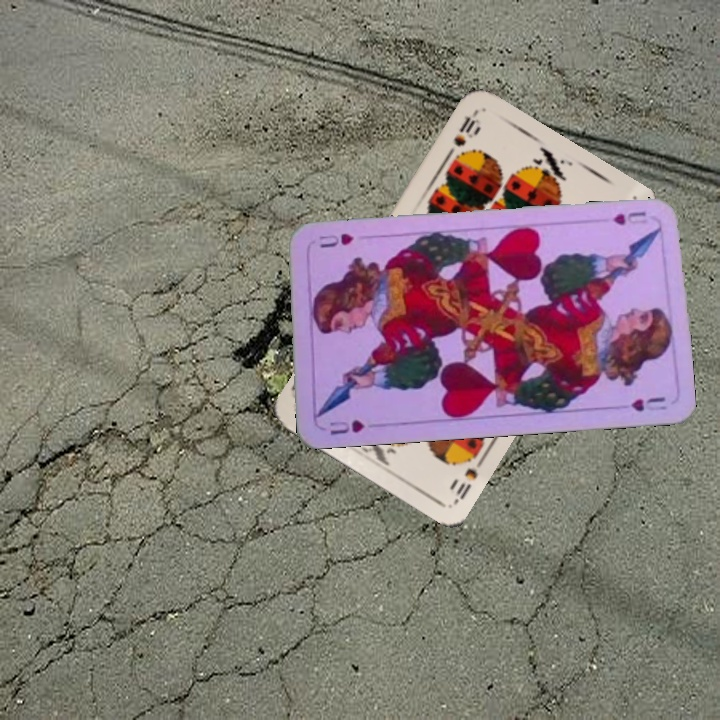HU: (326, 416, 367, 438), (609, 207, 650, 228)
S10: (450, 448, 488, 506), (442, 108, 483, 161)
